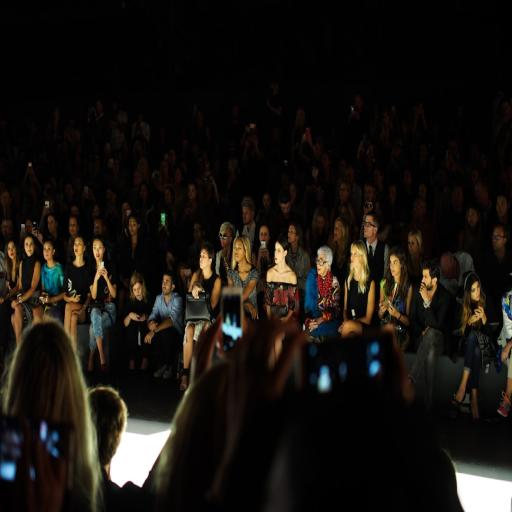face: (492, 227, 506, 251), (364, 215, 377, 239), (316, 253, 329, 276), (390, 254, 401, 280), (274, 242, 287, 264), (234, 240, 246, 263), (93, 239, 104, 262), (496, 195, 508, 216), (421, 269, 433, 290), (220, 229, 233, 248), (338, 182, 350, 202), (200, 249, 211, 270), (162, 275, 173, 295), (350, 248, 361, 268), (24, 237, 35, 257), (408, 235, 419, 255), (128, 217, 139, 236), (467, 208, 478, 227), (43, 242, 54, 260), (74, 237, 85, 255), (471, 281, 480, 302), (7, 242, 17, 260), (259, 225, 269, 243), (280, 202, 291, 218), (69, 218, 78, 237), (132, 283, 142, 300), (243, 207, 253, 224), (334, 221, 342, 241), (288, 226, 297, 243), (317, 216, 325, 232)
